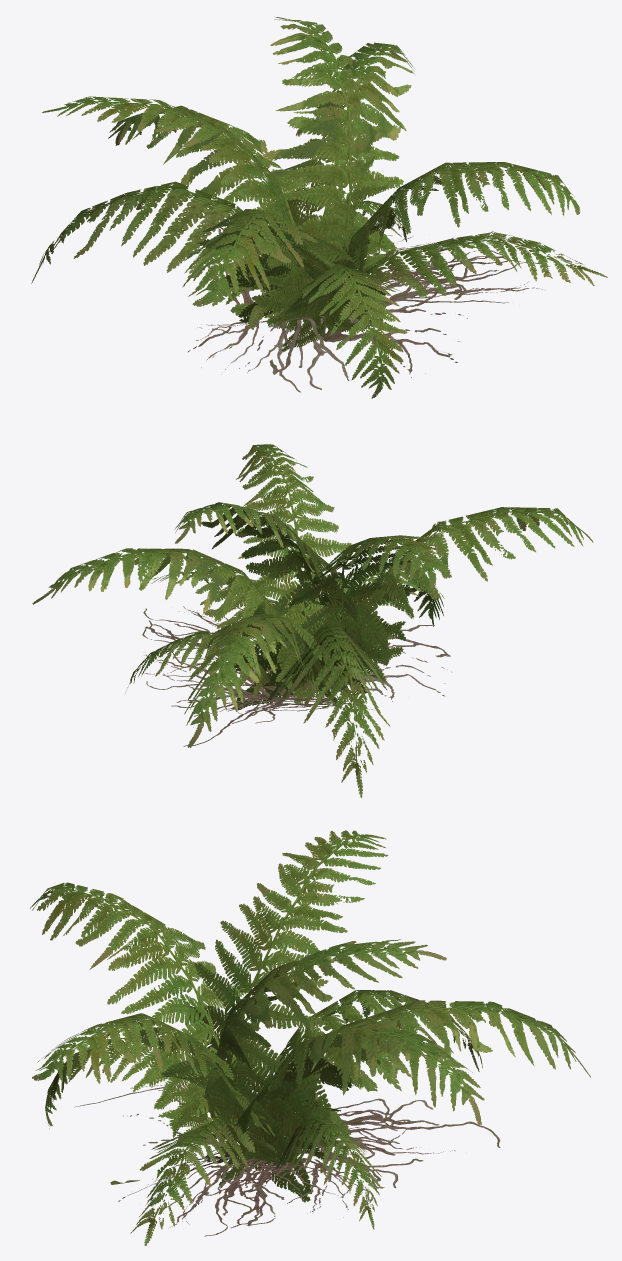
The model's file is SM_Fol_Fern2.fbx.
3 views of the same model, one above another, from view 1: azimuth 30°, elevation 25°; view 2: azimuth 150°, elevation 25°; view 3: azimuth 270°, elevation 25° (orthographic). The views are drawn at different scales.
Visible parts, largest first — view 1: SM_Fol_Fern2; view 2: SM_Fol_Fern2; view 3: SM_Fol_Fern2.
Part boxes in pixels (x1,y1,x2,y2): SM_Fol_Fern2: (31,16,607,398); SM_Fol_Fern2: (32,444,593,798); SM_Fol_Fern2: (30,830,590,1245).
Size of the model in its own units: 119 by 127 by 68.95.
Materials: 1 (1 with a texture image).
